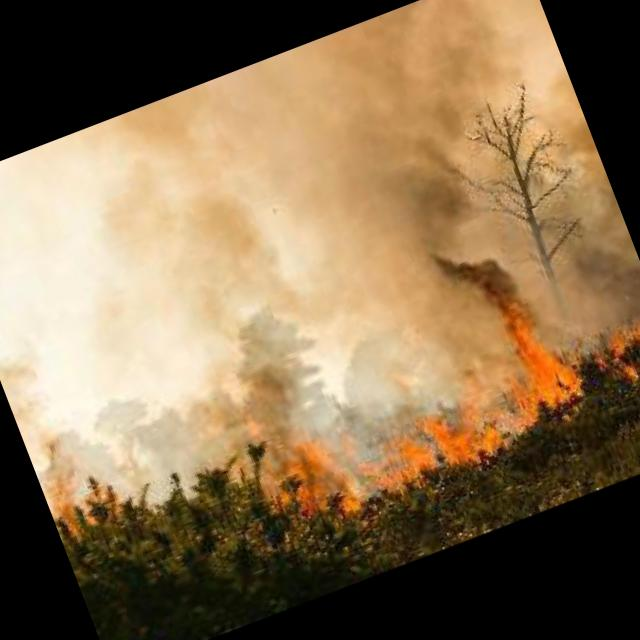fire: (238, 274, 640, 545)
smoke: (509, 76, 640, 331), (176, 276, 339, 480), (403, 170, 540, 350)
